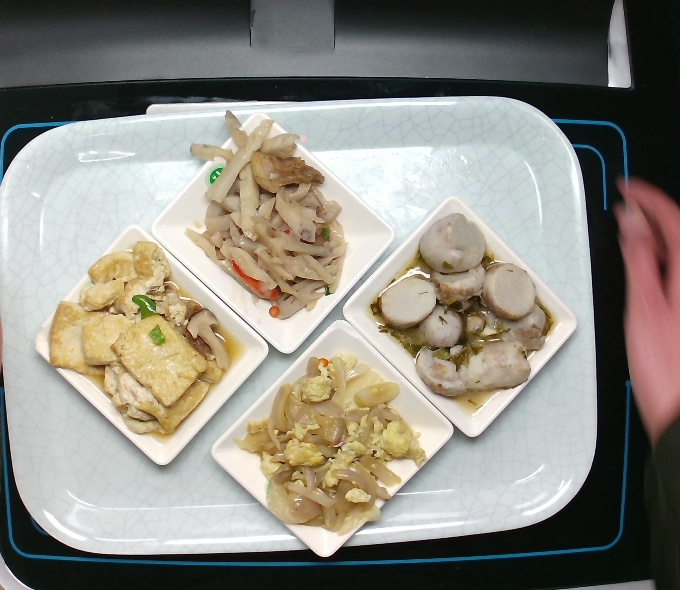wcq-JiaChangDouFu: (45, 236, 234, 437)
wcq-QingChaoOuPian: (175, 104, 354, 326)
wcq-YangCongChaoDan: (230, 351, 428, 538)
wcq-YangYu: (367, 211, 555, 411)
